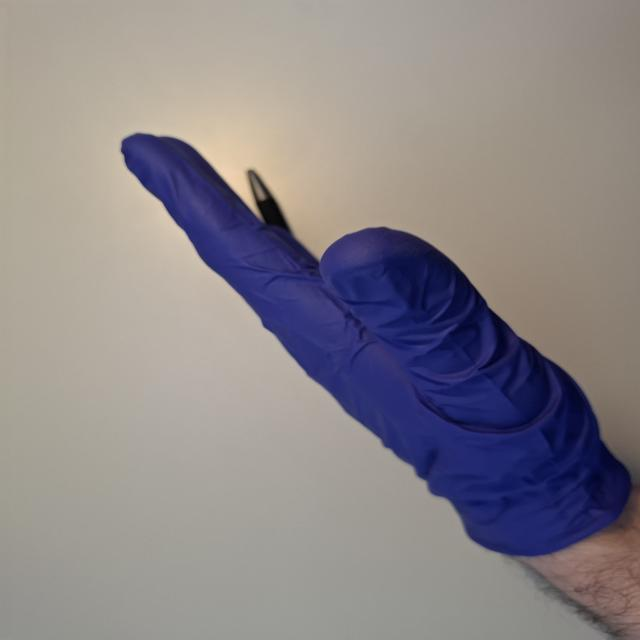glove_on: (117, 130, 632, 558)
